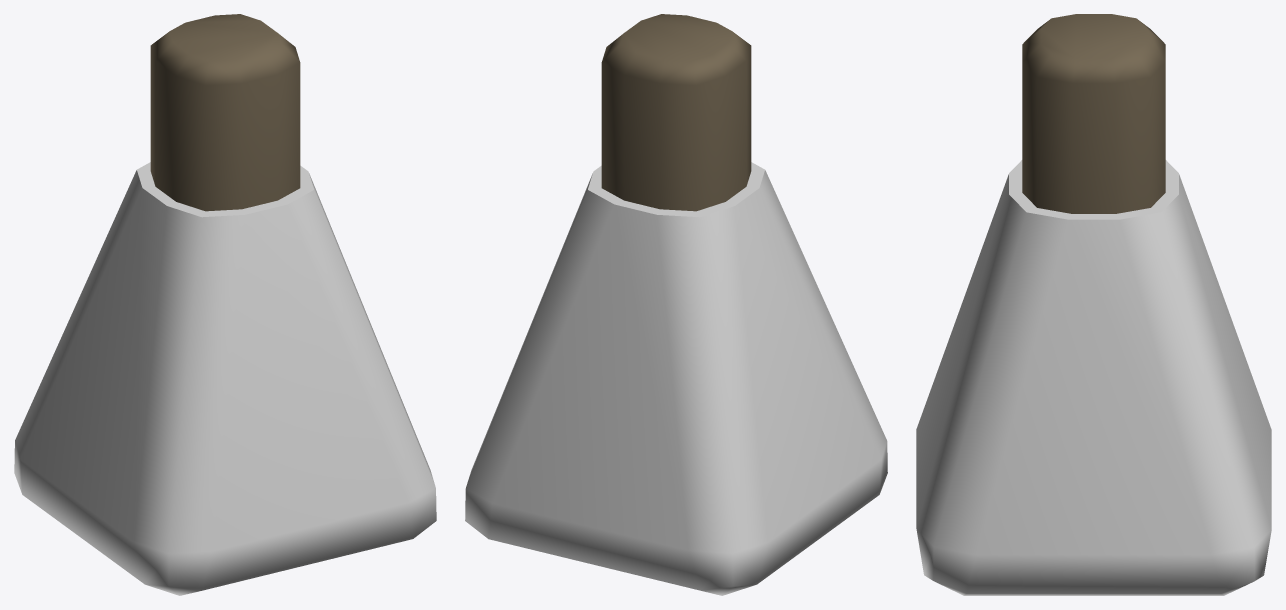
Rendered from SM_Bottle02.fbx.
3 views of the same model, side by side, from view 1: azimuth 30°, elevation 25°; view 2: azimuth 150°, elevation 25°; view 3: azimuth 270°, elevation 25° (orthographic). The views are drawn at different scales.
Parts seen in each view (by area): view 1: pCube68; view 2: pCube68; view 3: pCube68.
Part boxes in pixels (<box>): pCube68: <box>14,14,436,595</box>; pCube68: <box>465,14,887,595</box>; pCube68: <box>916,14,1271,595</box>.
Size of the model in its own units: 23.65 by 37.05 by 23.65.
